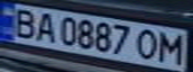0: (54, 15, 78, 47)
7: (112, 22, 136, 56)
8: (90, 19, 115, 53), (75, 17, 93, 51)
A: (30, 10, 60, 43)
B: (6, 6, 42, 38)
M: (154, 29, 190, 64)
O: (133, 27, 163, 61)
